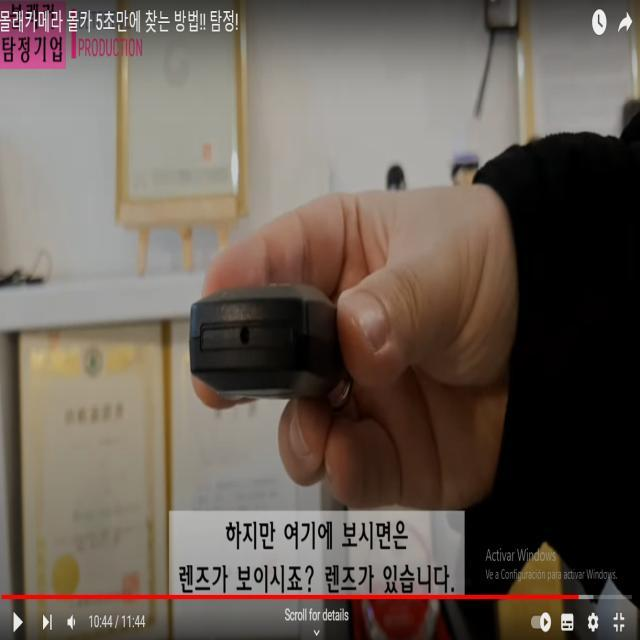hidden camera: (237, 320, 254, 351)
